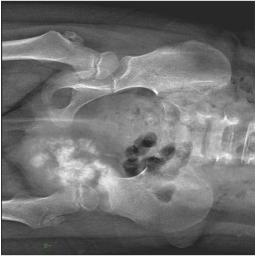cancer: (17, 138, 117, 195)
